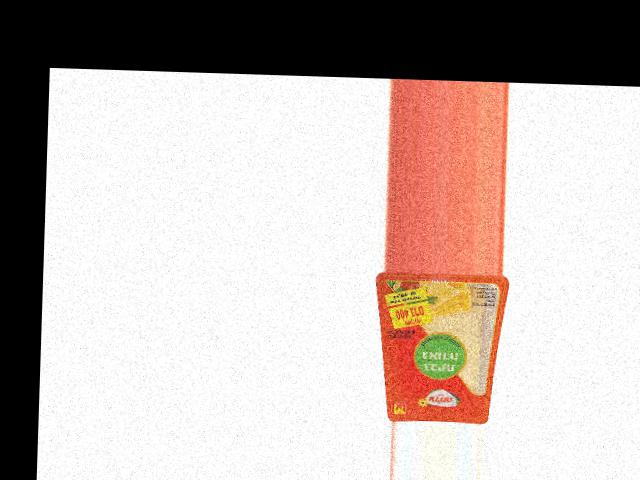cheese: (371, 270, 508, 424)
